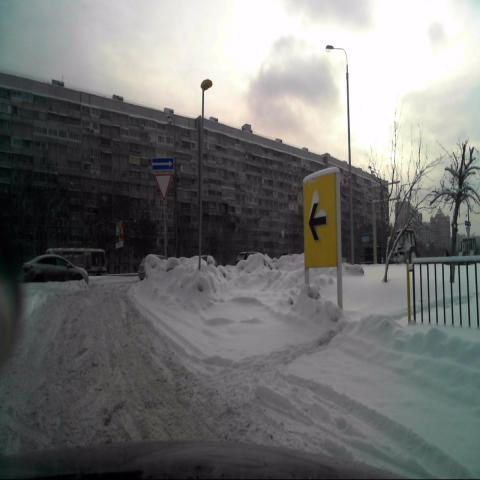5_7_1: (150, 160, 171, 175)
